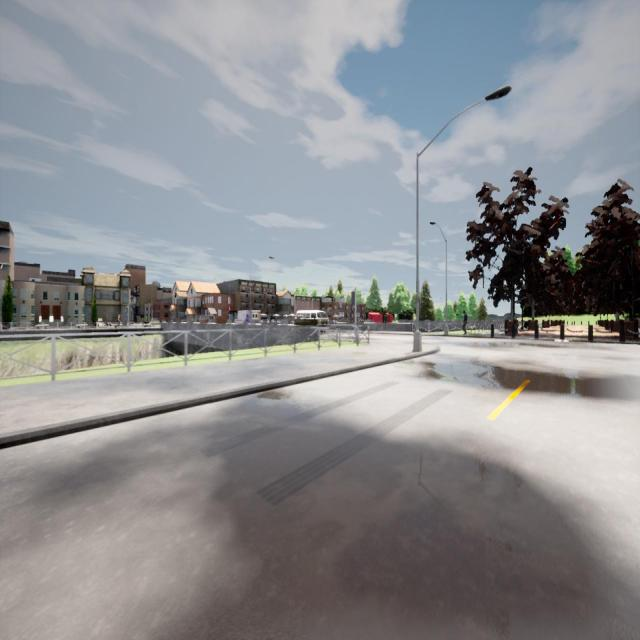Pedestrian: (460, 310, 468, 334)
Vehicle: (294, 310, 328, 326), (234, 310, 260, 323)
traffic_light: (352, 292, 355, 306), (229, 306, 231, 314)
